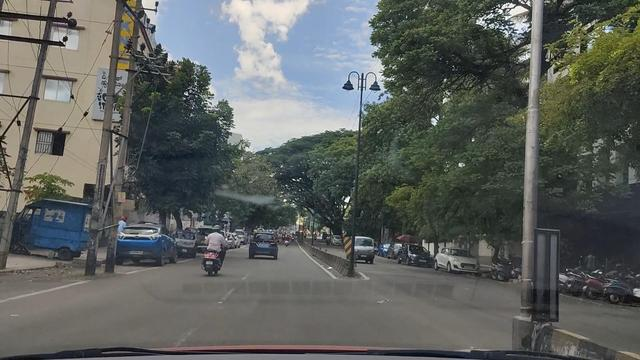LMV: (203, 226, 233, 272), (252, 228, 287, 261)
